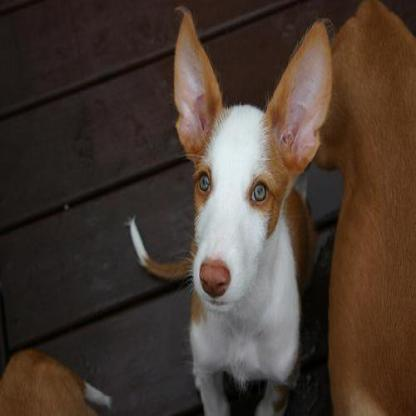dog: (156, 0, 336, 413)
